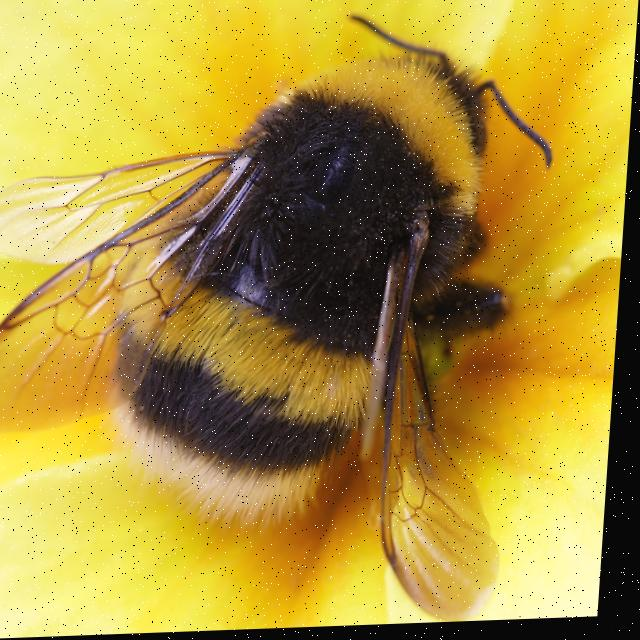Apis-mellifera-scutellata: (0, 0, 580, 638)
